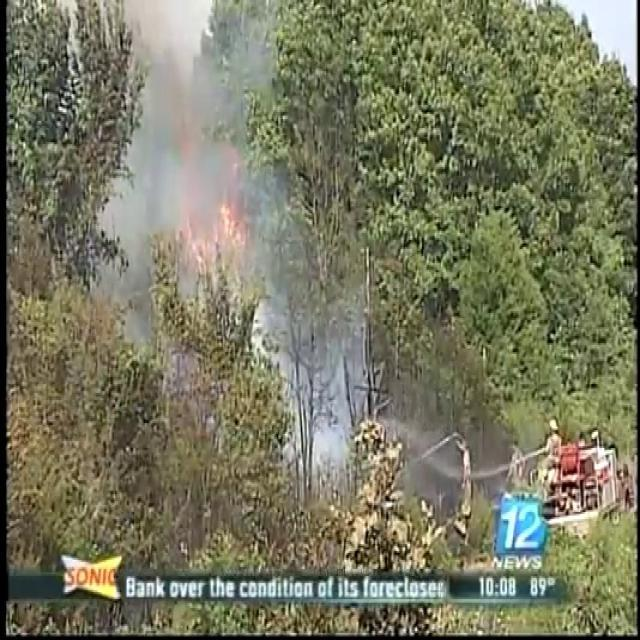Smoke: (100, 2, 286, 336)
